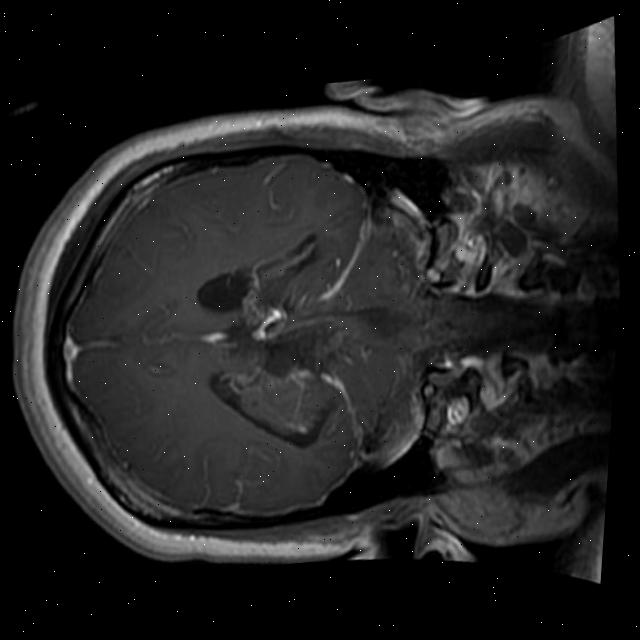Glioma: (232, 362, 338, 437)
